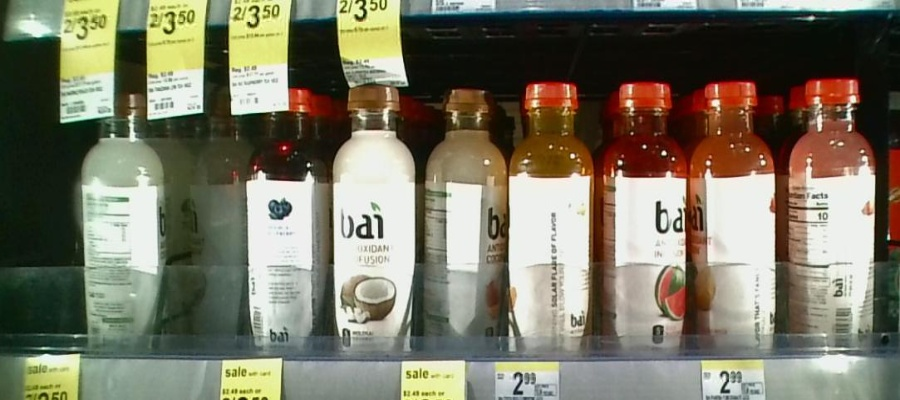bottle: (507, 66, 598, 359), (691, 74, 783, 359), (786, 69, 877, 355), (598, 77, 687, 360), (423, 64, 505, 364), (334, 74, 420, 358), (246, 73, 332, 354), (79, 87, 163, 358), (189, 78, 248, 361)
